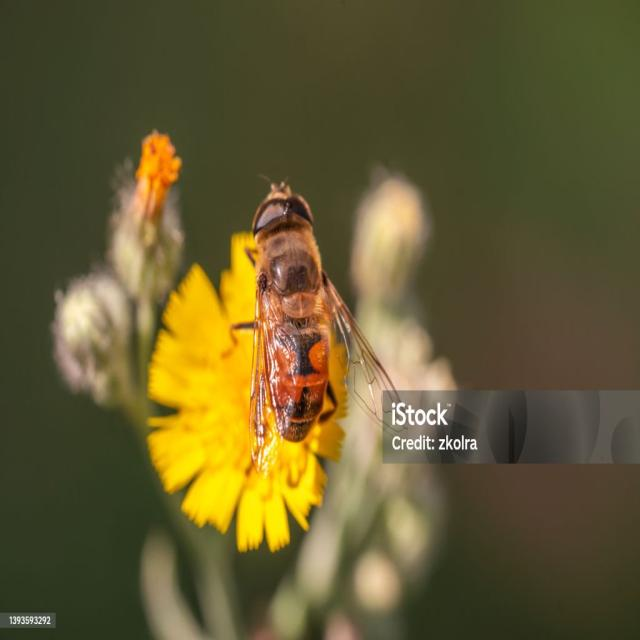hoverfly: (219, 164, 415, 478)
